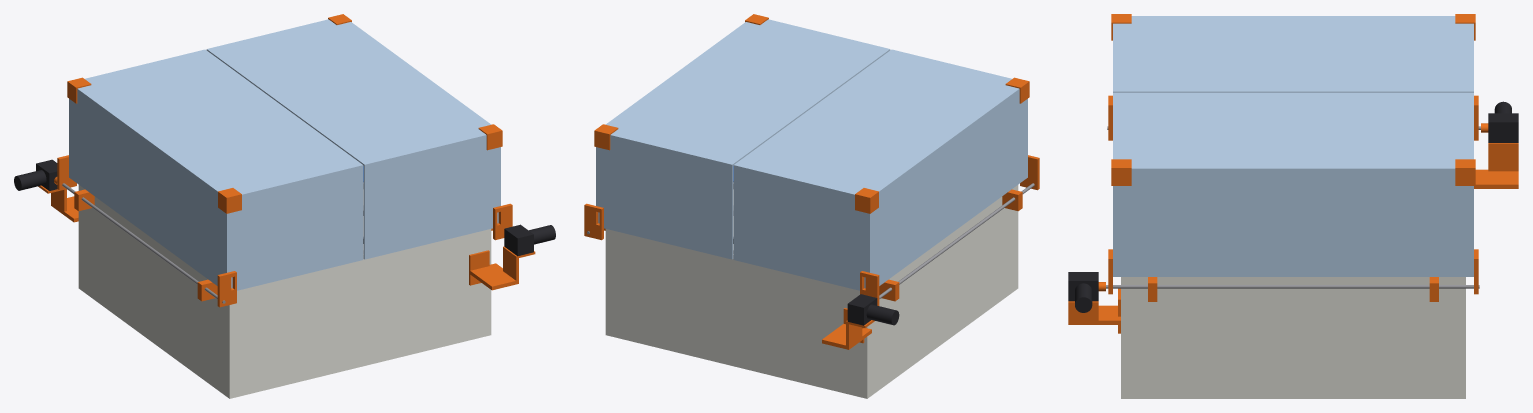
File: dock_closed_with_drone.glb
3 views of the same model, side by side, from view 1: azimuth 30°, elevation 25°; view 2: azimuth 150°, elevation 25°; view 3: azimuth 270°, elevation 25° (orthographic). The views are drawn at different scales.
Parts seen in each view (by area): view 1: dockCOVER_L, dock_panels, dockCOVER_R, dock_motor_bracket_R, dockREF_cover_motor_R, dockREF_cover_motor_L, dock_shaft_L, dockCOVER_arm_L+, dock_motor_bracket_L, dockCOVER_arm_R-, dockCOVER_corner_L+; view 2: dockCOVER_L, dock_panels, dockCOVER_R, dockREF_cover_motor_L, dock_motor_bracket_L, dock_shaft_L, dockCOVER_arm_R+, dockCOVER_corner_L-, dockCOVER_arm_L-, dockCOVER_arm_L+, dockCOVER_corner_R+; view 3: dockCOVER_R, dock_panels, dockCOVER_L, dock_motor_bracket_L, dock_shaft_R, dockREF_cover_motor_L, dockREF_cover_motor_R, dock_motor_bracket_R, dockCOVER_corner_R+, dockCOVER_corner_R-.
Part boxes in pixels (x1=…): dockCOVER_L: x1=69, y1=49, x2=363, y2=290; dock_panels: x1=78, y1=185, x2=491, y2=398; dockCOVER_R: x1=206, y1=19, x2=500, y2=259; dock_motor_bracket_R: x1=469, y1=246, x2=535, y2=290; dockREF_cover_motor_R: x1=504, y1=224, x2=555, y2=256; dockREF_cover_motor_L: x1=14, y1=159, x2=57, y2=190; dock_shaft_L: x1=62, y1=183, x2=225, y2=303; dockCOVER_arm_L+: x1=217, y1=271, x2=236, y2=307; dock_motor_bracket_L: x1=38, y1=185, x2=78, y2=222; dockCOVER_arm_R-: x1=493, y1=203, x2=512, y2=240; dockCOVER_corner_L+: x1=218, y1=188, x2=241, y2=213; dockCOVER_L: x1=733, y1=49, x2=1027, y2=290; dock_panels: x1=605, y1=185, x2=1018, y2=398; dockCOVER_R: x1=596, y1=19, x2=890, y2=259; dockREF_cover_motor_L: x1=847, y1=294, x2=899, y2=325; dock_motor_bracket_L: x1=822, y1=308, x2=874, y2=349; dock_shaft_L: x1=879, y1=183, x2=1034, y2=298; dockCOVER_arm_R+: x1=584, y1=203, x2=603, y2=240; dockCOVER_corner_L-: x1=855, y1=188, x2=878, y2=213; dockCOVER_arm_L-: x1=860, y1=271, x2=879, y2=305; dockCOVER_arm_L+: x1=1020, y1=155, x2=1039, y2=190; dockCOVER_corner_R+: x1=594, y1=124, x2=618, y2=150; dockCOVER_R: x1=1113, y1=92, x2=1473, y2=276; dock_panels: x1=1121, y1=277, x2=1465, y2=398; dockCOVER_L: x1=1113, y1=16, x2=1473, y2=92; dock_motor_bracket_L: x1=1474, y1=143, x2=1518, y2=188; dock_shaft_R: x1=1106, y1=285, x2=1479, y2=288; dockREF_cover_motor_L: x1=1488, y1=101, x2=1518, y2=142; dockREF_cover_motor_R: x1=1068, y1=272, x2=1098, y2=312; dock_motor_bracket_R: x1=1068, y1=288, x2=1120, y2=333; dockCOVER_corner_R+: x1=1455, y1=159, x2=1475, y2=185; dockCOVER_corner_R-: x1=1111, y1=159, x2=1131, y2=185.
Size of the model in its own units: 986 by 553 by 960.
